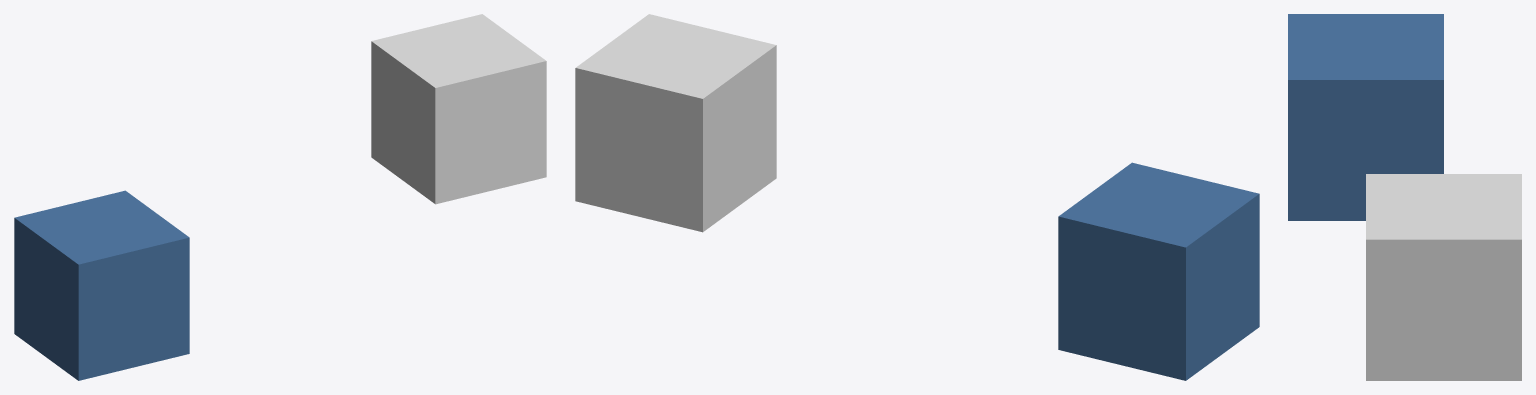
The picture shows the model from 3 angles, left to right: view 1: azimuth 30°, elevation 25°; view 2: azimuth 150°, elevation 25°; view 3: azimuth 270°, elevation 25°; orthographic projection. The views are drawn at different scales.
Parts seen in each view (by area): view 1: base, imported:cube; view 2: base, imported:cube; view 3: imported:cube, base.
Boxes of the visible parts, x1,y1,x2,y2 form: base: (14, 190, 189, 380); imported:cube: (371, 14, 546, 204); base: (1058, 162, 1259, 380); imported:cube: (575, 14, 776, 232); imported:cube: (1366, 174, 1521, 380); base: (1288, 14, 1443, 220).
Bounding box in the file's own units: 45 × 15 × 15.
